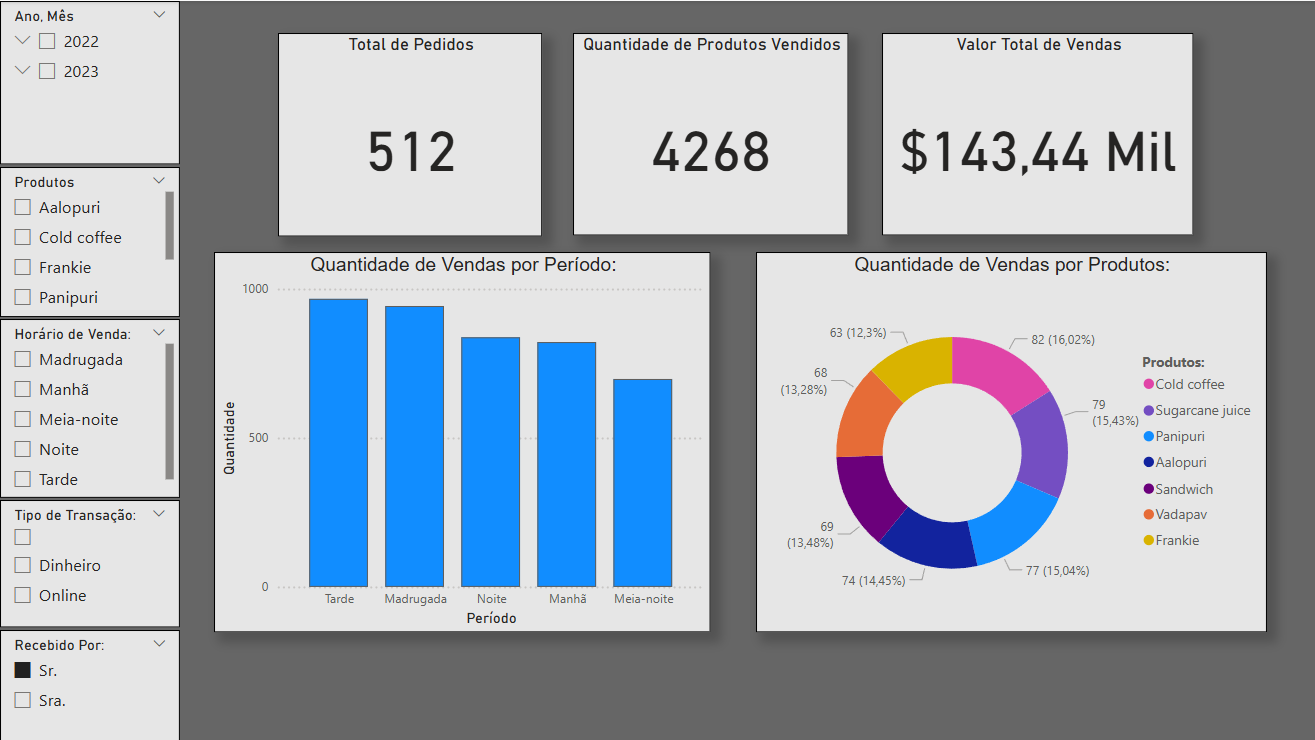

Layout of this report page (visuals, bound fields, positions):
{"tool":"powerbi","page":{"name":"Filtros Simples","canvas":[1280,720],"ordinal":1},"visuals":[{"type":"slicer","fields":{"Values":["Balaji Fast Food Sales.Período Formatado"]},"box":[0,309.5,174.7,173.8],"z":0},{"type":"card","title":"Total de Pedidos","fields":{"Values":["CountNonNull(Balaji Fast Food Sales.order_id)"]},"box":[270.4,31,257.1,197.7],"z":1000},{"type":"card","title":"Valor Total de Vendas","fields":{"Values":["Sum(Balaji Fast Food Sales.transaction_amount)"]},"box":[857.9,31.1,303.5,197.4],"z":2000},{"type":"card","title":"Quantidade de Produtos Vendidos","fields":{"Values":["Sum(Balaji Fast Food Sales.quantity)"]},"box":[557.3,31.1,268.4,197.4],"z":3000},{"type":"slicer","fields":{"Values":["Balaji Fast Food Sales.Tipo_Transacao"]},"box":[0,485,174.7,124.1],"z":4000},{"type":"slicer","fields":{"Values":["Balaji Fast Food Sales.Recebido_Por"]},"box":[0,611.8,175.1,108],"z":5000},{"type":"slicer","fields":{"Values":["Balaji Fast Food Sales.date.Variation.Hierarquia de datas.Ano","Balaji Fast Food Sales.date.Variation.Hierarquia de datas.Mês"]},"box":[0,0,175.1,158.5],"z":6000},{"type":"columnChart","title":"Quantidade de Vendas por Período:","fields":{"Category":["Balaji Fast Food Sales.Período Formatado"],"Y":["Sum(Balaji Fast Food Sales.quantity)"]},"box":[208.4,243.8,483.3,369.8],"z":7000},{"type":"slicer","fields":{"Values":["Balaji Fast Food Sales.item_name"]},"box":[0,161.4,174.7,146.3],"z":8000},{"type":"donutChart","title":"Quantidade de Vendas por Produtos:","fields":{"Category":["Balaji Fast Food Sales.item_name"],"Y":["CountNonNull(Balaji Fast Food Sales.quantity)"]},"box":[735.1,243.8,496.6,369.8],"z":9000}]}

Visuals, with their boxes in screenshot pixels (x1, y1, x2, y2):
slicer - Balaji Fast Food Sales.Período Formatado: [x1=0, y1=317, x2=177, y2=493]
"Total de Pedidos" card: [x1=274, y1=35, x2=534, y2=235]
"Valor Total de Vendas" card: [x1=869, y1=35, x2=1177, y2=235]
"Quantidade de Produtos Vendidos" card: [x1=565, y1=35, x2=837, y2=235]
slicer - Balaji Fast Food Sales.Tipo_Transacao: [x1=0, y1=495, x2=177, y2=621]
slicer - Balaji Fast Food Sales.Recebido_Por: [x1=0, y1=623, x2=177, y2=733]
slicer - Balaji Fast Food Sales.date.Variation.Hierarquia de datas.Ano x Balaji Fast Food Sales.date.Variation.Hierarquia de datas.Mês: [x1=0, y1=3, x2=177, y2=164]
"Quantidade de Vendas por Período:" columnChart: [x1=211, y1=250, x2=701, y2=625]
slicer - Balaji Fast Food Sales.item_name: [x1=0, y1=167, x2=177, y2=315]
"Quantidade de Vendas por Produtos:" donutChart: [x1=745, y1=250, x2=1248, y2=625]
